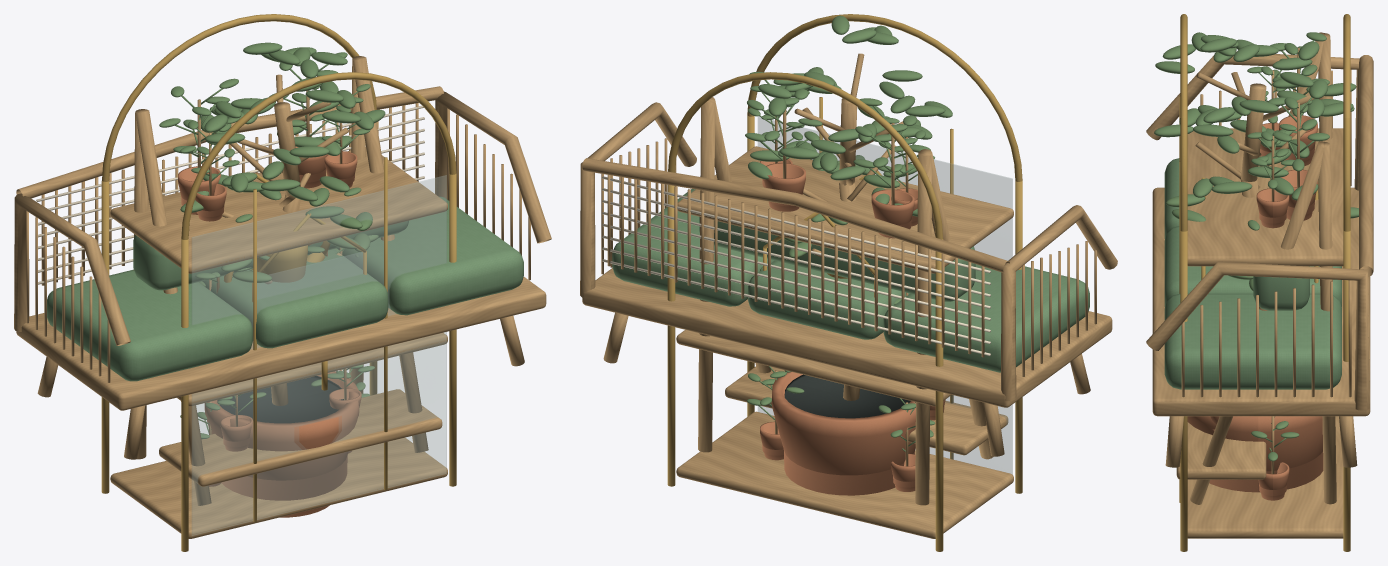
Rendered from tidy-life-green.glb.
The picture shows the model from 3 angles, left to right: view 1: azimuth 30°, elevation 25°; view 2: azimuth 150°, elevation 25°; view 3: azimuth 270°, elevation 25°; orthographic projection. The views are drawn at different scales.
Visible parts, largest first — view 1: life_green_greenhouse_mesh, life_green_daybed_mesh, life_green_olivetree_mesh, life_green_plantladder_mesh, life_green_terrarium_mesh, life_green_wateringcan_mesh; view 2: life_green_daybed_mesh, life_green_greenhouse_mesh, life_green_olivetree_mesh, life_green_plantladder_mesh; view 3: life_green_daybed_mesh, life_green_greenhouse_mesh, life_green_olivetree_mesh, life_green_plantladder_mesh.
Boxes of the visible parts, box(x1,y1,x2,y2) form: life_green_greenhouse_mesh: box(101, 14, 456, 551); life_green_daybed_mesh: box(14, 86, 551, 459); life_green_olivetree_mesh: box(180, 42, 385, 517); life_green_plantladder_mesh: box(133, 52, 442, 505); life_green_terrarium_mesh: box(249, 173, 366, 301); life_green_wateringcan_mesh: box(224, 241, 330, 282); life_green_daybed_mesh: box(580, 102, 1117, 456); life_green_greenhouse_mesh: box(667, 14, 1022, 551); life_green_olivetree_mesh: box(748, 15, 952, 495); life_green_plantladder_mesh: box(698, 71, 1008, 505); life_green_daybed_mesh: box(1146, 51, 1373, 467); life_green_greenhouse_mesh: box(1179, 14, 1350, 551); life_green_olivetree_mesh: box(1154, 32, 1358, 492); life_green_plantladder_mesh: box(1176, 32, 1336, 504).
Bounding box in the file's own units: 0.68 × 0.67 × 0.3.
Materials: 9 (9 with a texture image).
